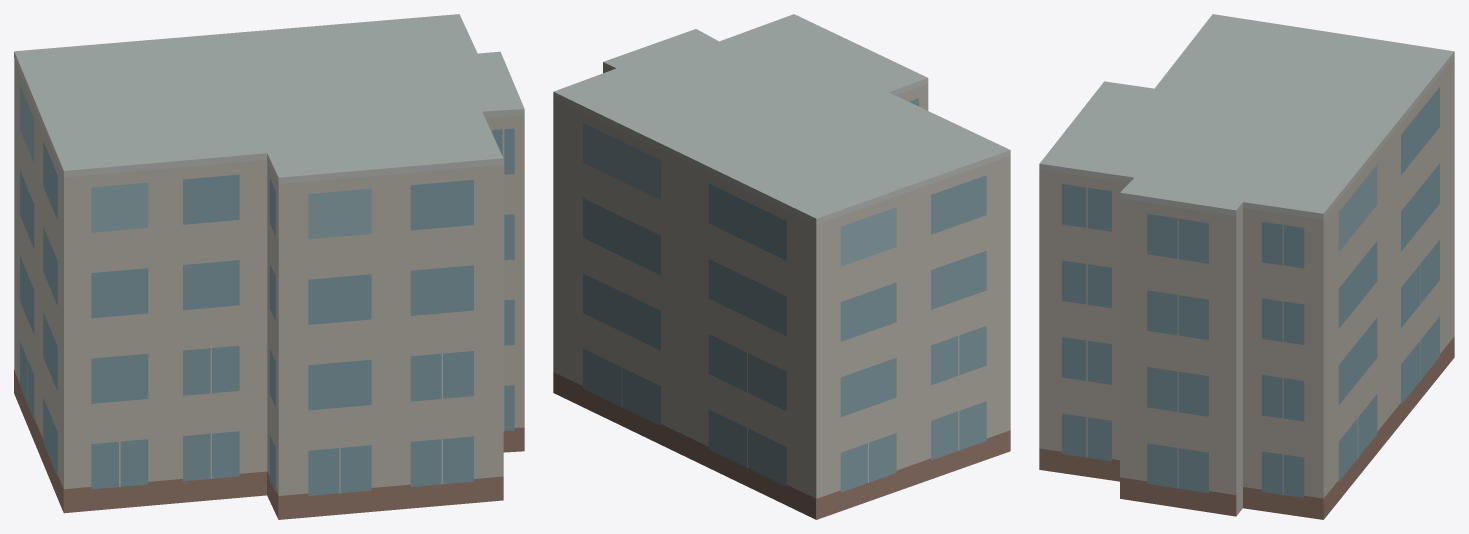
File: survey-upis-32636458.glb
3 renders of one model, left to right at view 1: azimuth 30°, elevation 25°; view 2: azimuth 150°, elevation 25°; view 3: azimuth 270°, elevation 25°, orthographic. The views are drawn at different scales.
Visible parts, largest first — view 1: survey-upis-32636458.tmp; view 2: survey-upis-32636458.tmp; view 3: survey-upis-32636458.tmp.
Part boxes in pixels (x1=…): survey-upis-32636458.tmp: x1=14, y1=14, x2=524, y2=519; survey-upis-32636458.tmp: x1=553, y1=14, x2=1010, y2=519; survey-upis-32636458.tmp: x1=1039, y1=14, x2=1454, y2=519.
Size of the model in its own units: 18.07 by 12.9 by 15.86.
